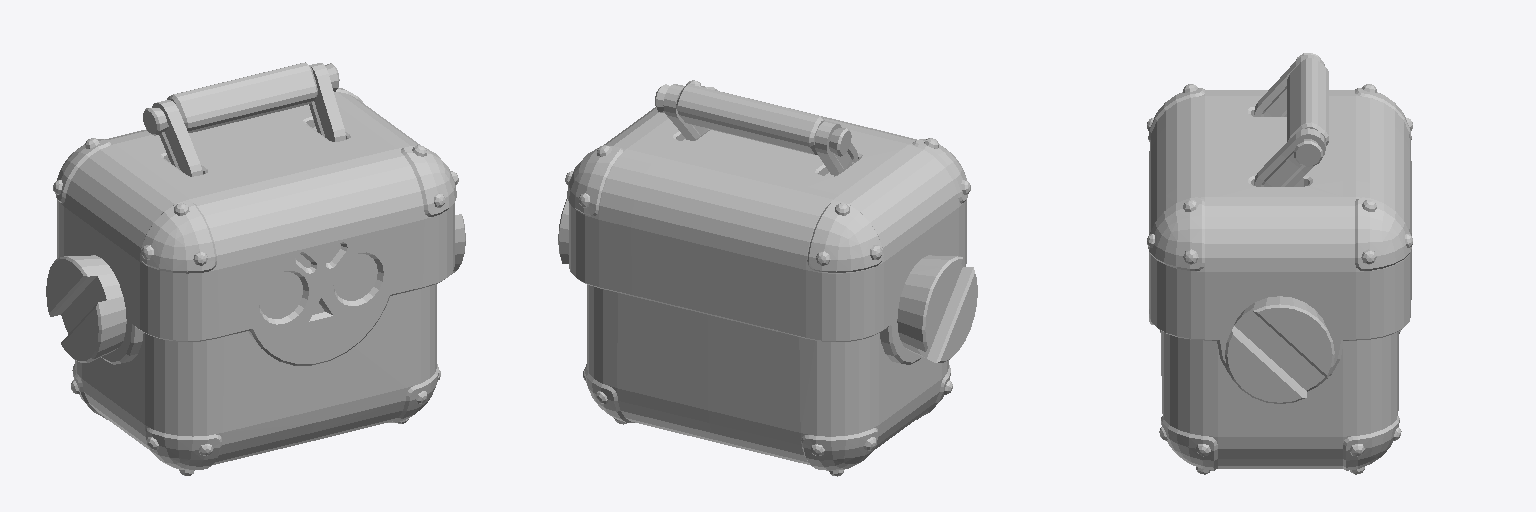
Rendered from caja.obj.
3 views of the same model, side by side, from view 1: azimuth 30°, elevation 25°; view 2: azimuth 150°, elevation 25°; view 3: azimuth 270°, elevation 25° (orthographic).
Parts seen in each view (by area): view 1: Object_9_Object_2, Object_12_Object_3, Object_7_Object_1, Object_17_Object_5, Object_5_Object_0, Object_19_Object_6, Object_14_Object_4; view 2: Object_9_Object_2, Object_12_Object_3, Object_7_Object_1, Object_17_Object_5, Object_14_Object_4, Object_19_Object_6; view 3: Object_9_Object_2, Object_12_Object_3, Object_7_Object_1, Object_19_Object_6, Object_14_Object_4, Object_17_Object_5.
Boxes of the visible parts, <box> form: Object_9_Object_2: <box>57,92,454,365</box>; Object_12_Object_3: <box>75,284,436,464</box>; Object_7_Object_1: <box>46,87,465,362</box>; Object_17_Object_5: <box>167,62,317,132</box>; Object_5_Object_0: <box>164,119,383,324</box>; Object_19_Object_6: <box>143,63,345,176</box>; Object_14_Object_4: <box>71,364,440,475</box>; Object_9_Object_2: <box>569,90,966,364</box>; Object_12_Object_3: <box>587,285,948,464</box>; Object_7_Object_1: <box>558,80,977,362</box>; Object_17_Object_5: <box>676,84,824,154</box>; Object_14_Object_4: <box>583,364,952,476</box>; Object_19_Object_6: <box>655,84,857,175</box>; Object_9_Object_2: <box>1149,90,1411,391</box>; Object_12_Object_3: <box>1161,331,1398,468</box>; Object_7_Object_1: <box>1147,84,1412,403</box>; Object_19_Object_6: <box>1254,53,1325,186</box>; Object_14_Object_4: <box>1159,330,1401,474</box>; Object_17_Object_5: <box>1287,58,1328,145</box>.
Bounding box in the file's own units: 0.0855 × 0.0738 × 0.0539.